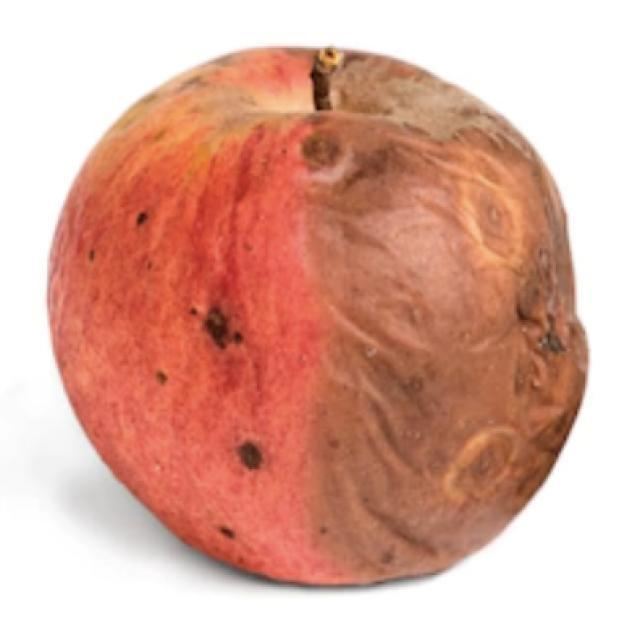Rotten: (34, 41, 604, 582)
